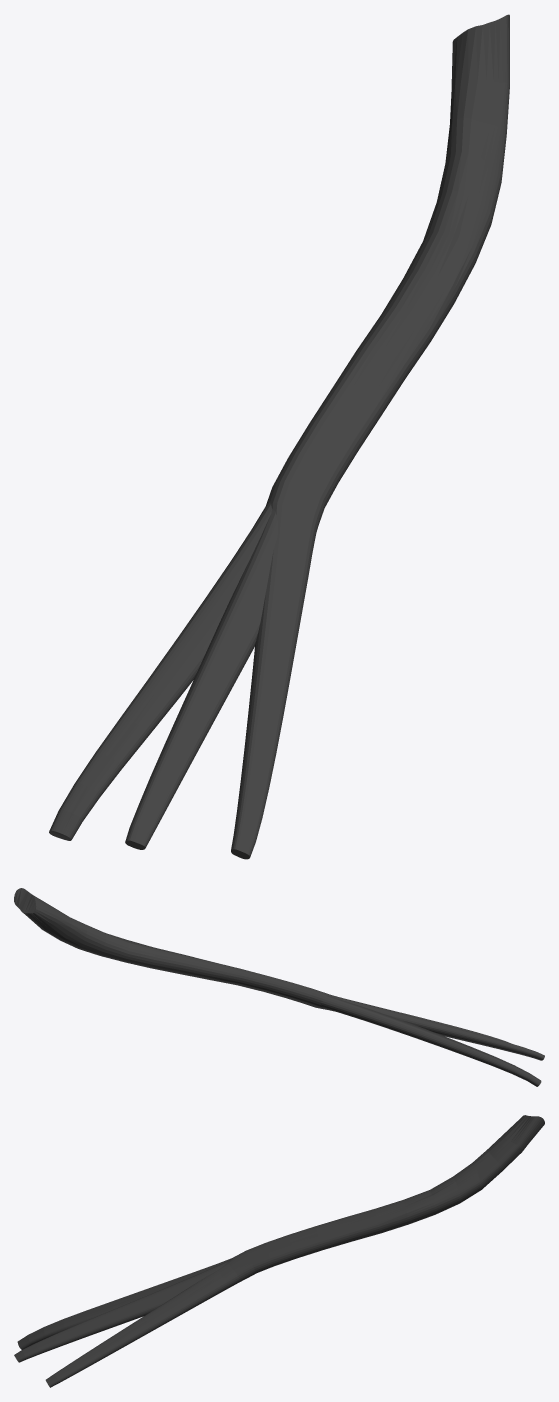
File: N_5_trigeminus_mandibular_masticator.glb
3 renders of one model, top to bottom at view 1: azimuth 30°, elevation 25°; view 2: azimuth 150°, elevation 25°; view 3: azimuth 330°, elevation 25°, orthographic. The views are drawn at different scales.
Parts seen in each view (by area): view 1: N_5_trigeminus_mandibular_masticator; view 2: N_5_trigeminus_mandibular_masticator; view 3: N_5_trigeminus_mandibular_masticator.
Part boxes in pixels (x1=…): N_5_trigeminus_mandibular_masticator: x1=49, y1=14, x2=509, y2=859; N_5_trigeminus_mandibular_masticator: x1=14, y1=888, x2=544, y2=1086; N_5_trigeminus_mandibular_masticator: x1=14, y1=1115, x2=544, y2=1387.
Bounding box in the file's own units: 0.011 × 0.00602 × 0.0095.
Materials: 1 (1 with a texture image).
